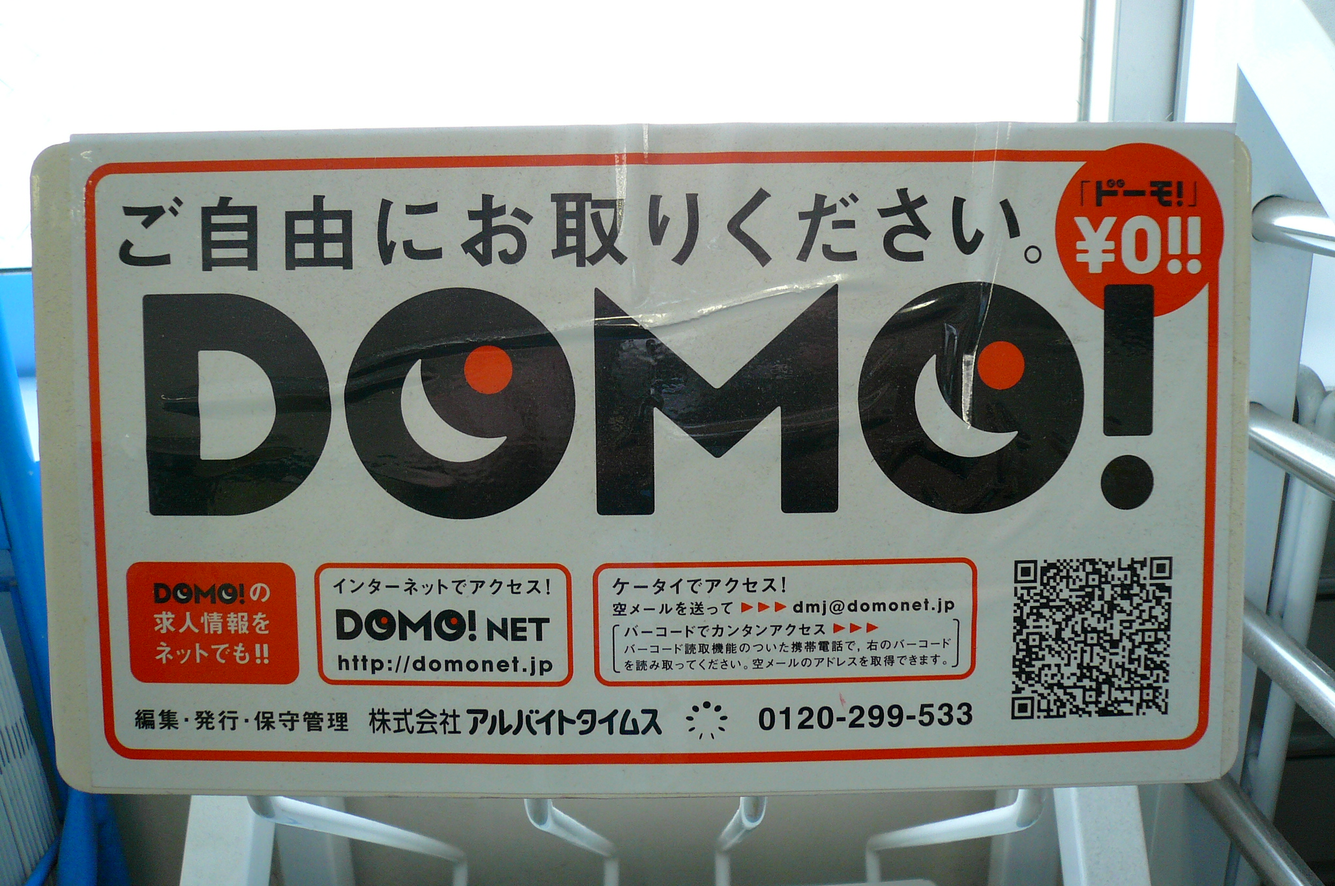QR-CODE: (1011, 556, 1172, 719)
